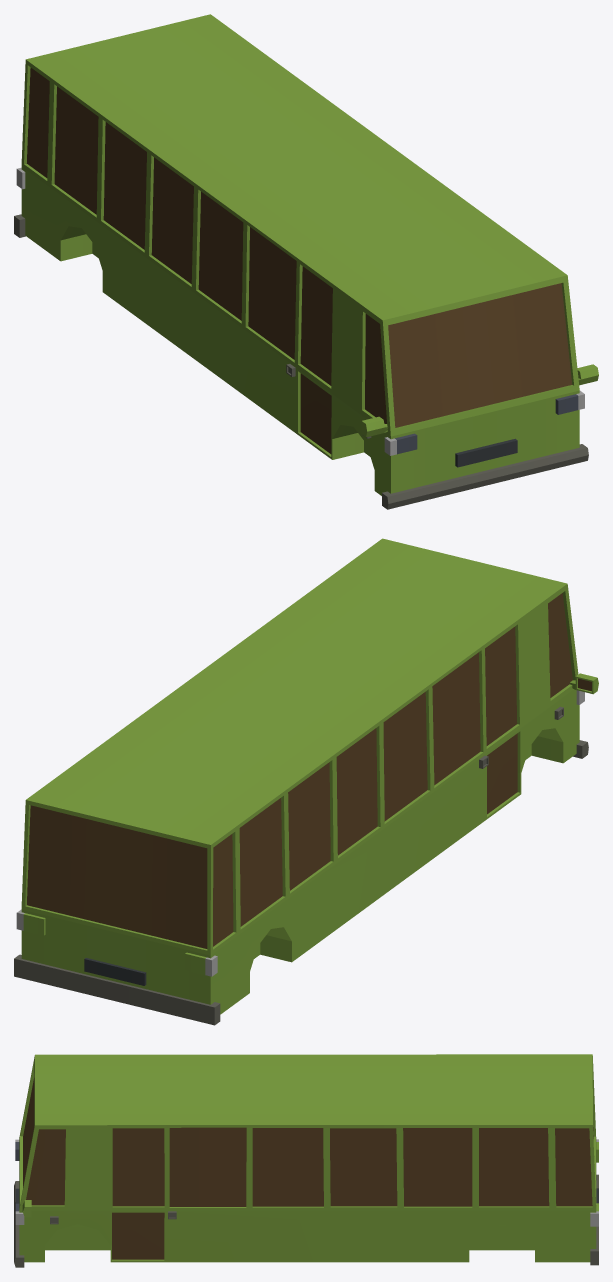
The model's file is Car_26.fbx.
3 renders of one model, top to bottom at view 1: azimuth 30°, elevation 25°; view 2: azimuth 150°, elevation 25°; view 3: azimuth 270°, elevation 25°, orthographic. The views are drawn at different scales.
Visible parts, largest first — view 1: Car_26; view 2: Car_26; view 3: Car_26.
Part boxes in pixels (<box>): Car_26: <box>14,14,598,509</box>; Car_26: <box>14,538,598,1025</box>; Car_26: <box>14,1054,598,1267</box>.
Bounding box in the file's own units: 2.36 × 1.74 × 6.61.
